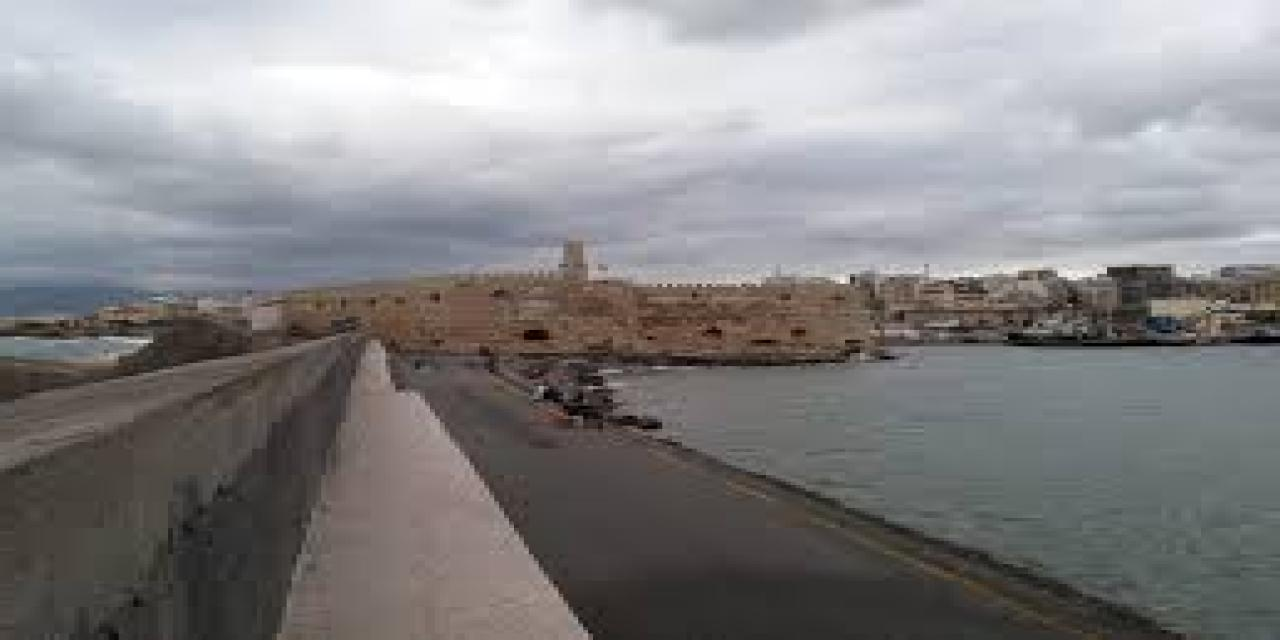Kules: (292, 266, 876, 358)
